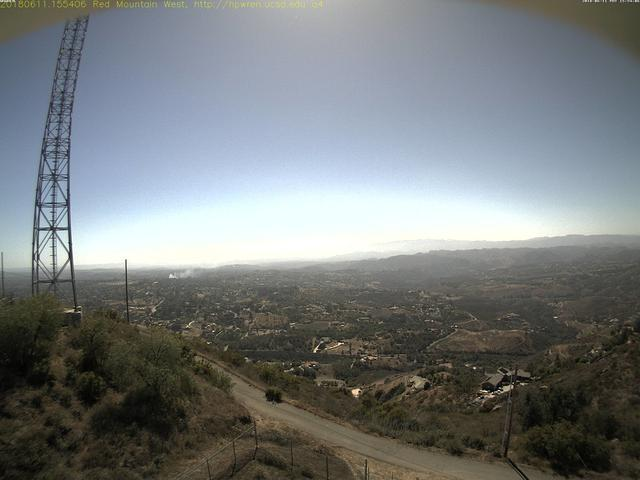smoke: (165, 259, 227, 280)
